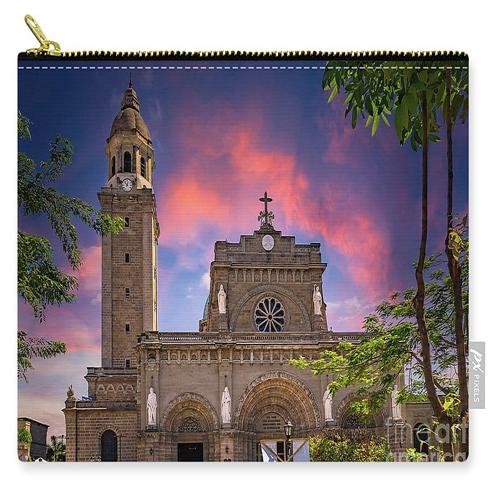Manila Cathedral Church: (50, 71, 419, 461)
